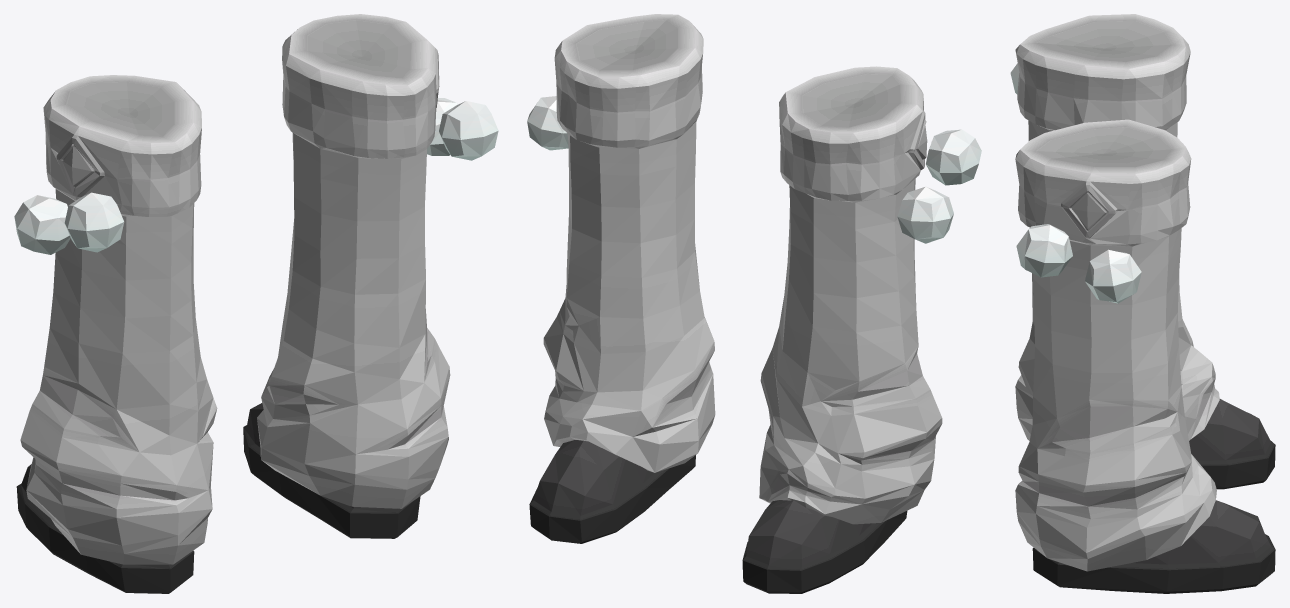
Rendered from CharSkyKid_Feet_FeastLegWarmers.glb.
3 renders of one model, left to right at view 1: azimuth 30°, elevation 25°; view 2: azimuth 150°, elevation 25°; view 3: azimuth 270°, elevation 25°, orthographic. The views are drawn at different scales.
Parts seen in each view (by area): view 1: CharSkyKid_Feet_FeastLegWarmers; view 2: CharSkyKid_Feet_FeastLegWarmers; view 3: CharSkyKid_Feet_FeastLegWarmers.
Boxes of the visible parts, x1,y1,x2,y2 form: CharSkyKid_Feet_FeastLegWarmers: (14,14,498,593); CharSkyKid_Feet_FeastLegWarmers: (527,14,981,593); CharSkyKid_Feet_FeastLegWarmers: (1010,14,1275,593).
Bounding box in the file's own units: 3.54 × 3.5 × 1.96.
1 material, 1 textured.
